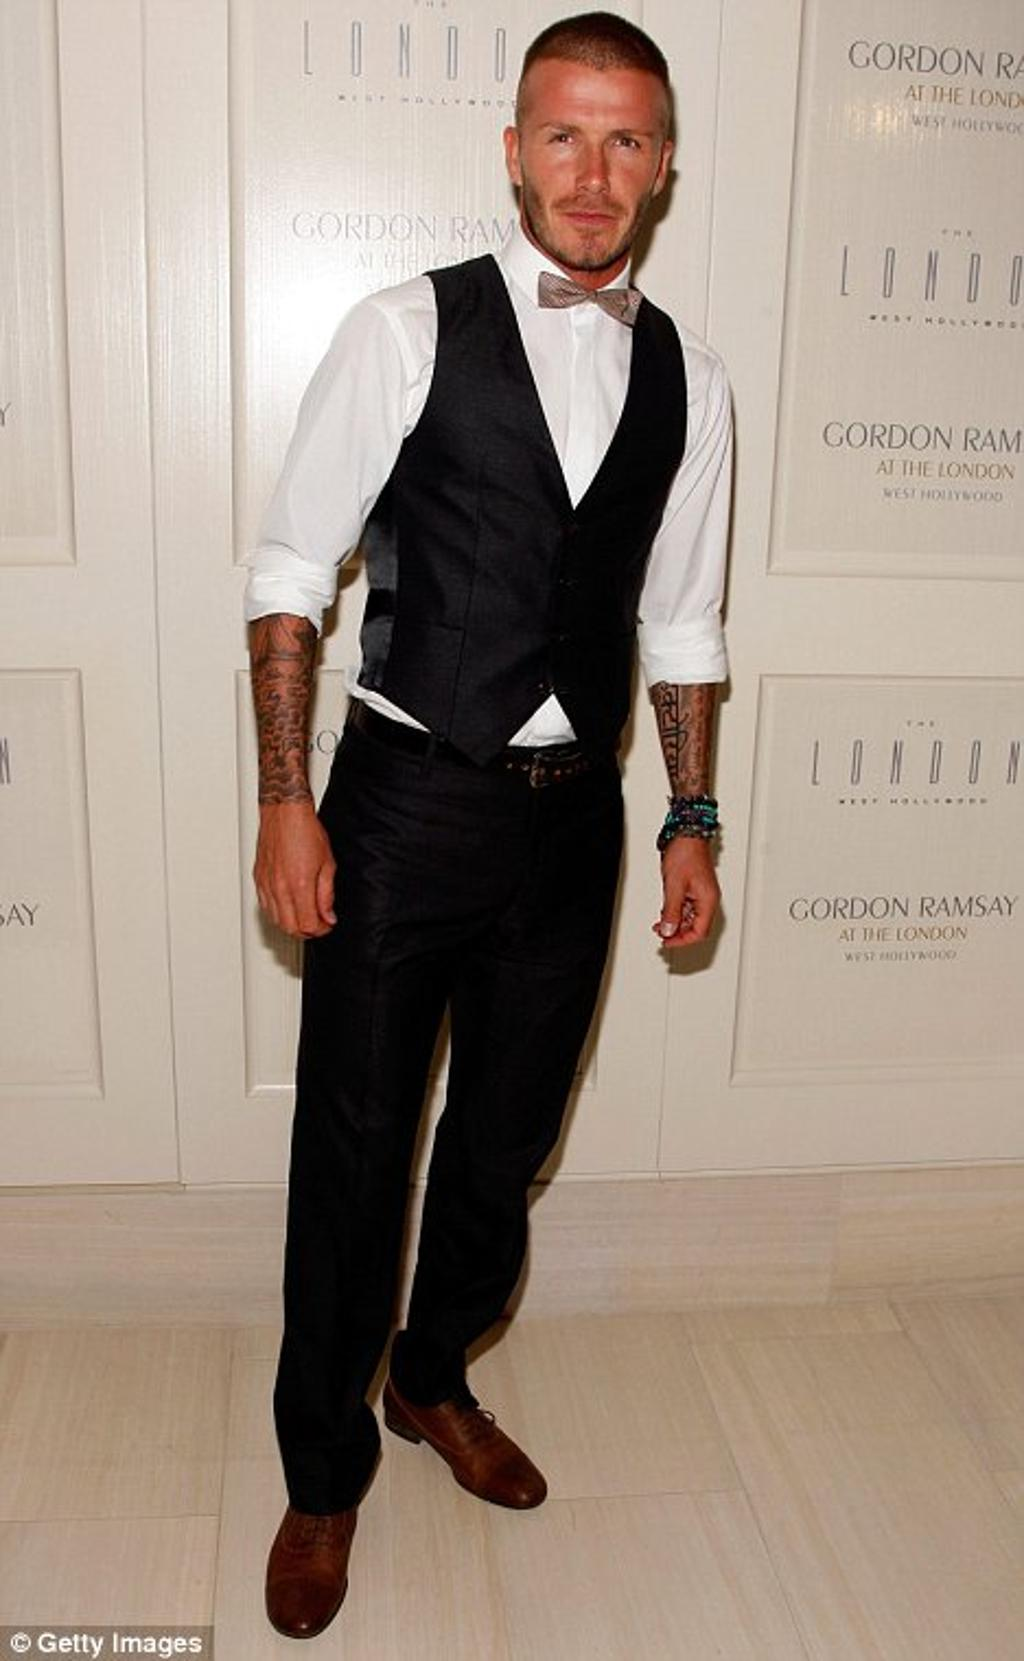face: (522, 65, 661, 263)
